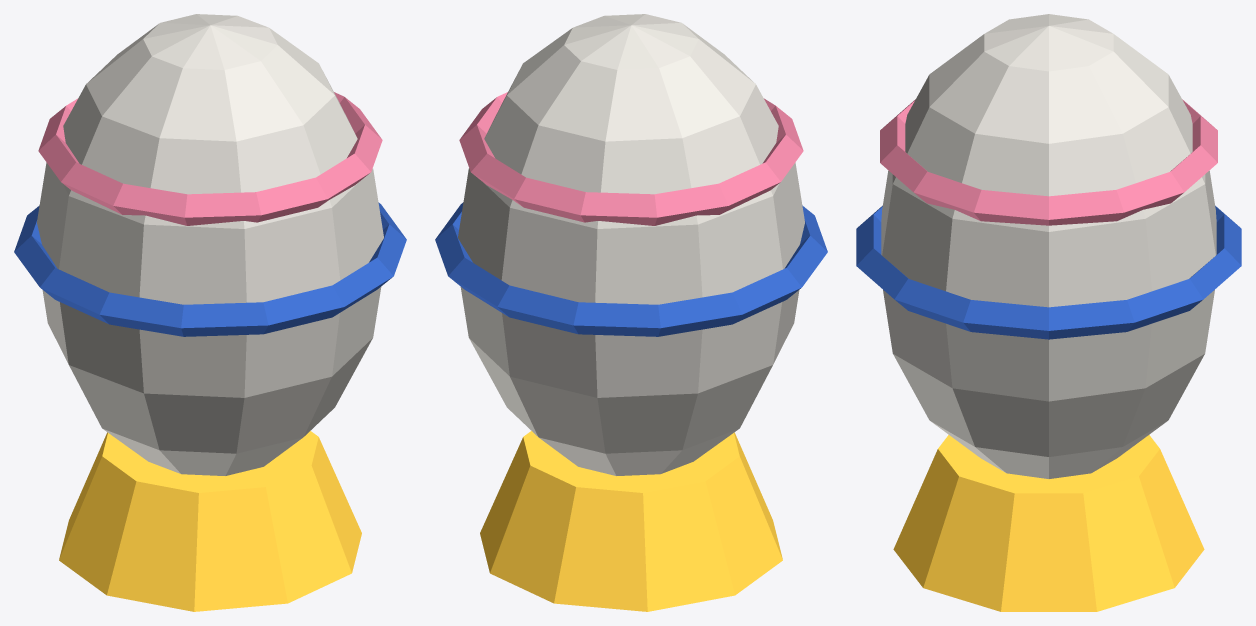
Rendered from founder_egg.glb.
The picture shows the model from 3 angles, left to right: view 1: azimuth 30°, elevation 25°; view 2: azimuth 150°, elevation 25°; view 3: azimuth 270°, elevation 25°; orthographic projection.
Parts seen in each view (by area): view 1: egg_porcelain, stand_gold, egg_porcelain_blue, egg_porcelain_pink; view 2: egg_porcelain, stand_gold, egg_porcelain_blue, egg_porcelain_pink; view 3: egg_porcelain, stand_gold, egg_porcelain_blue, egg_porcelain_pink.
Boxes of the visible parts, x1,y1,x2,y2 form: egg_porcelain: (37, 14, 383, 475); stand_gold: (59, 431, 361, 611); egg_porcelain_blue: (14, 202, 406, 336); egg_porcelain_pink: (38, 92, 382, 225); egg_porcelain: (458, 14, 804, 475); stand_gold: (480, 431, 782, 611); egg_porcelain_blue: (435, 202, 827, 336); egg_porcelain_pink: (459, 92, 803, 225); egg_porcelain: (881, 14, 1216, 478); stand_gold: (893, 435, 1204, 611); egg_porcelain_blue: (856, 205, 1241, 339); egg_porcelain_pink: (880, 99, 1217, 225).
Bounding box in the file's own units: 0.178 × 0.26 × 0.1735.
